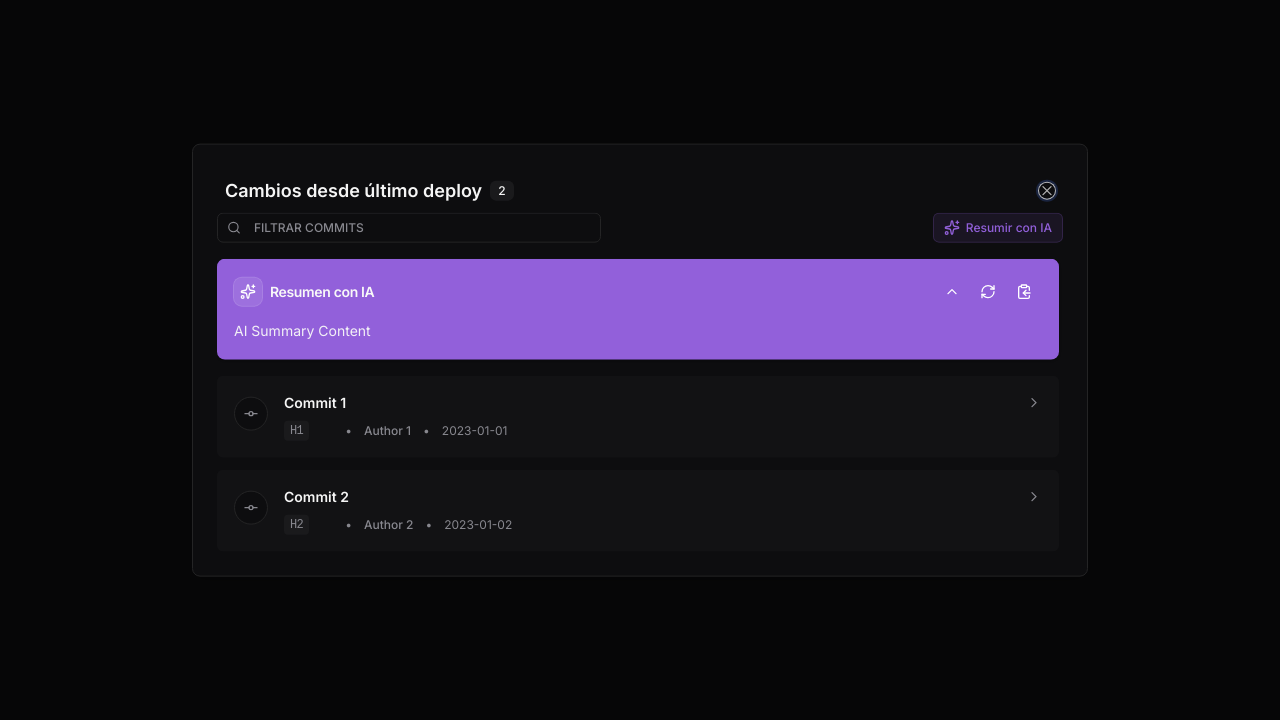
Scenario: CommitsModal › should toggle commit expansion
Expected: the text "Body 1" is not shown
Click the text "Commit 1" at (315, 402), box [284,392,346,412]
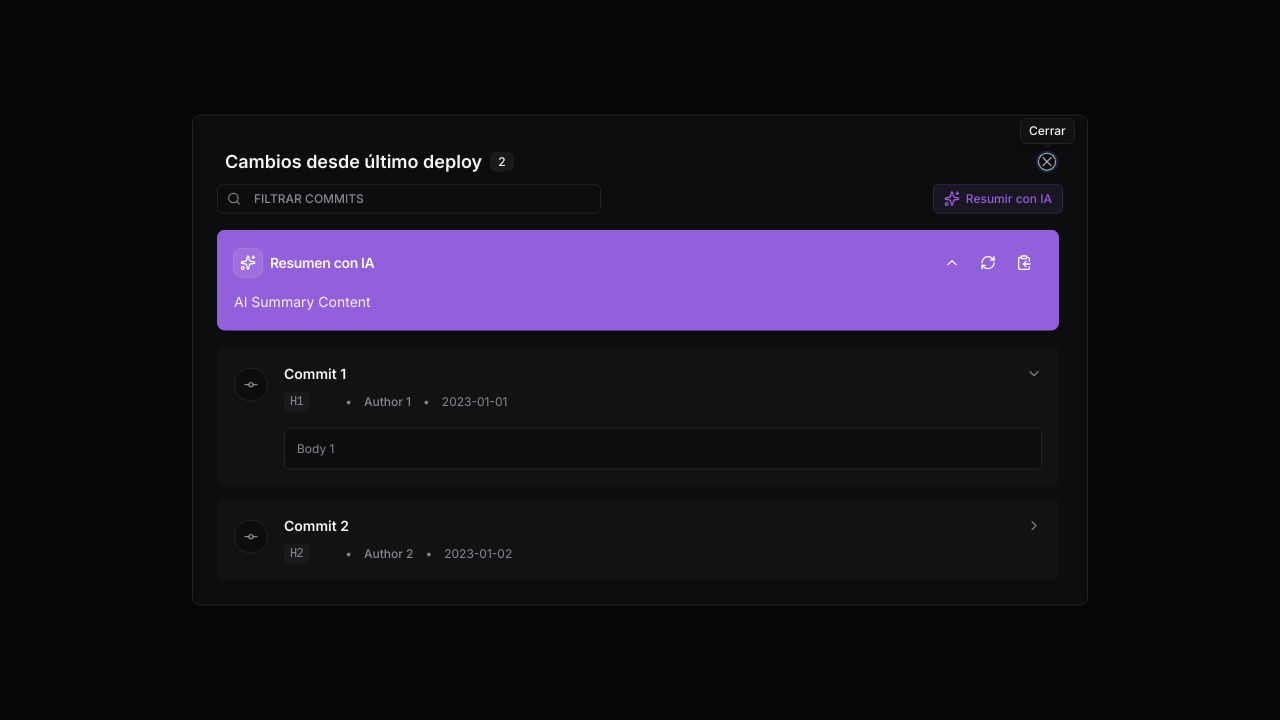
Expected: the text "Body 1" is shown, [284,427,1042,469]
